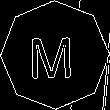M_N: (31, 29, 79, 81)
